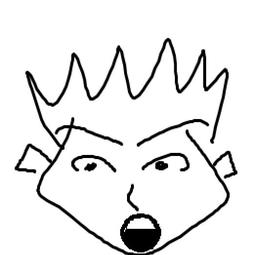eye: (135, 150, 193, 175), (67, 153, 118, 174)
frowning_eyebrow: (135, 112, 213, 147), (52, 123, 123, 151)
open_mouth: (117, 210, 168, 254)
pointy_nose: (120, 179, 145, 211)
